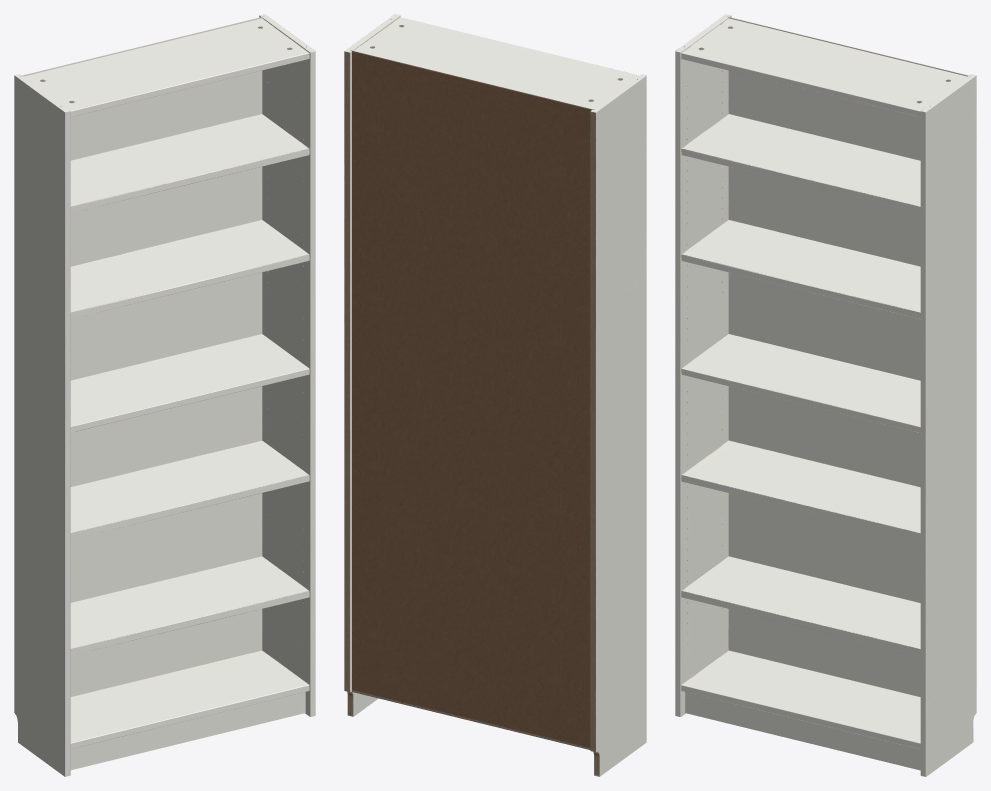
The model's file is billy-bokhylle.glb.
3 views of the same model, side by side, from view 1: azimuth 30°, elevation 25°; view 2: azimuth 150°, elevation 25°; view 3: azimuth 330°, elevation 25° (orthographic).
Visible parts, largest first — view 1: model; view 2: model; view 3: model.
Boxes of the visible parts, x1,y1,x2,y2 form: model: [14, 14, 315, 776]; model: [344, 14, 646, 776]; model: [675, 14, 976, 776].
Bounding box in the file's own units: 0.7983 × 2.02 × 0.28.
1 material, 1 textured.
